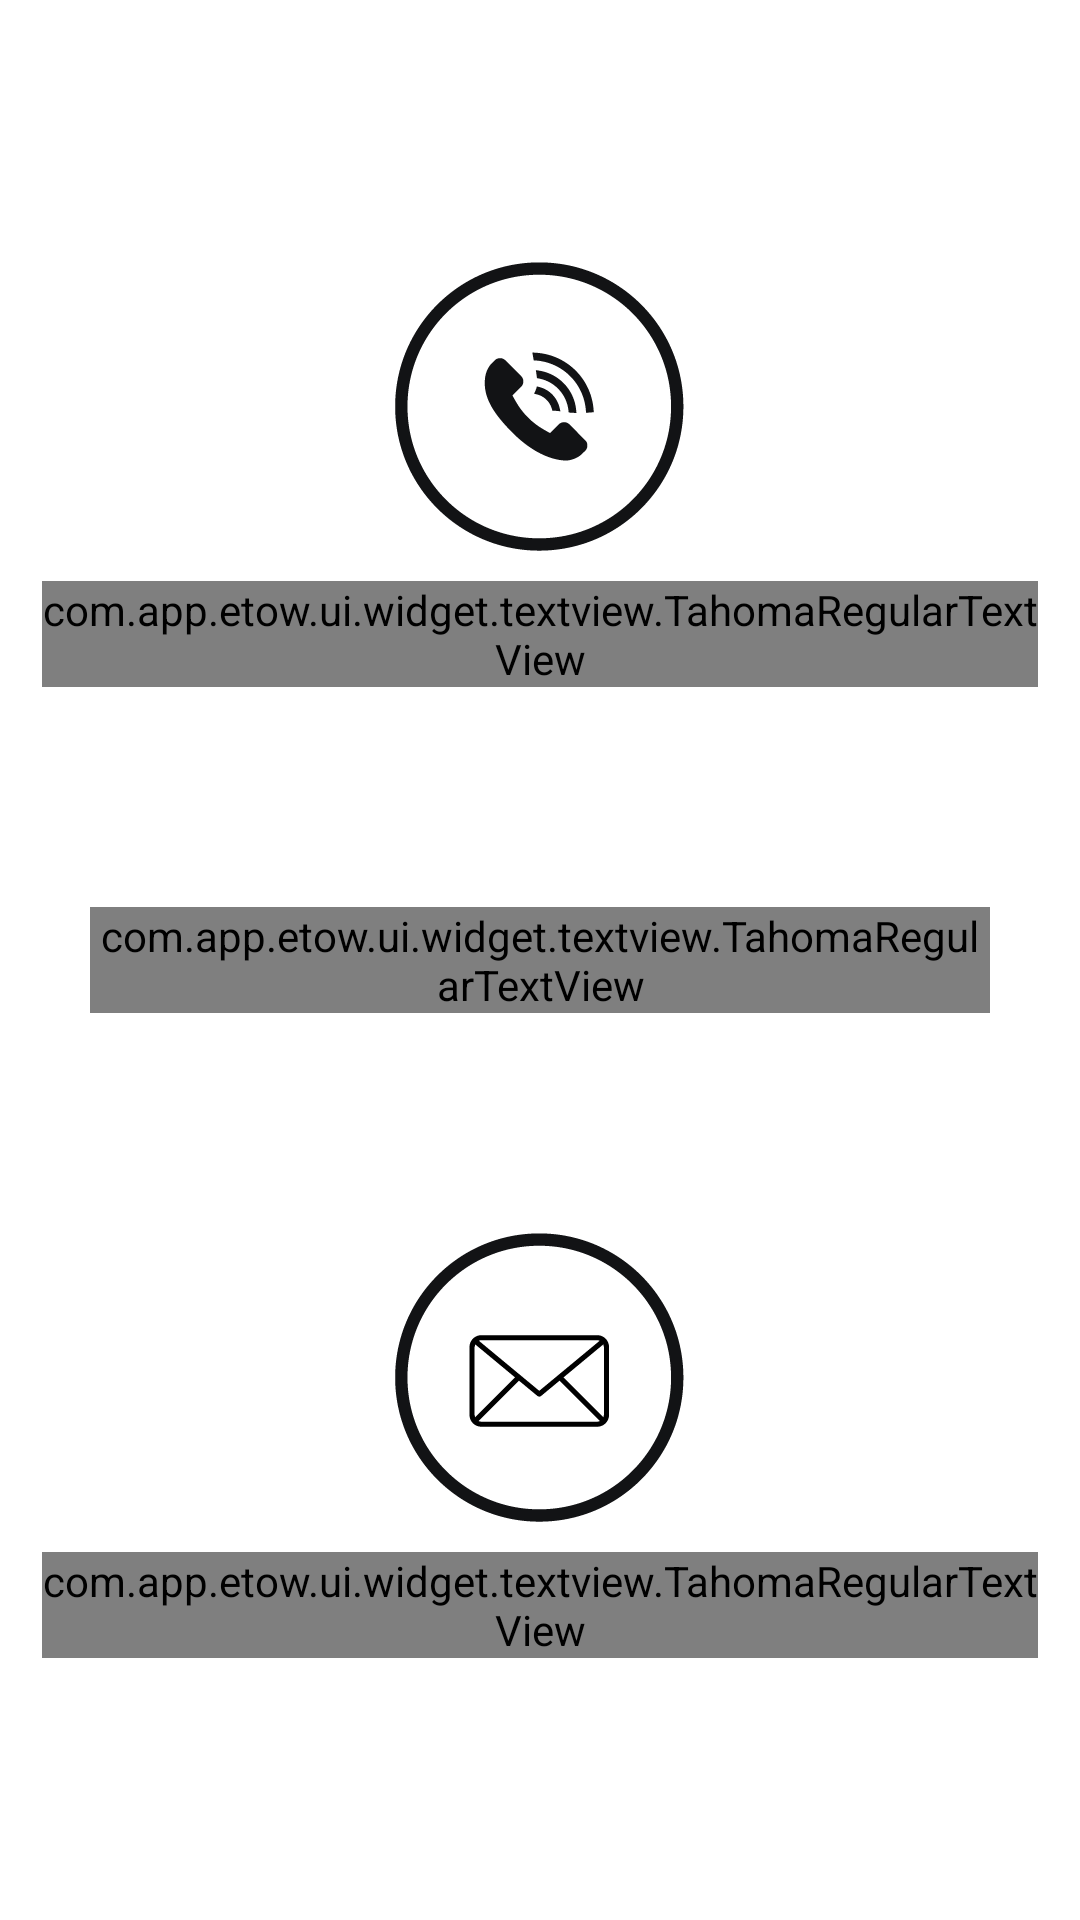

Named icons in this screenshot (1080x1920) and their centers, point (x, y):
call us: point (539, 406)
